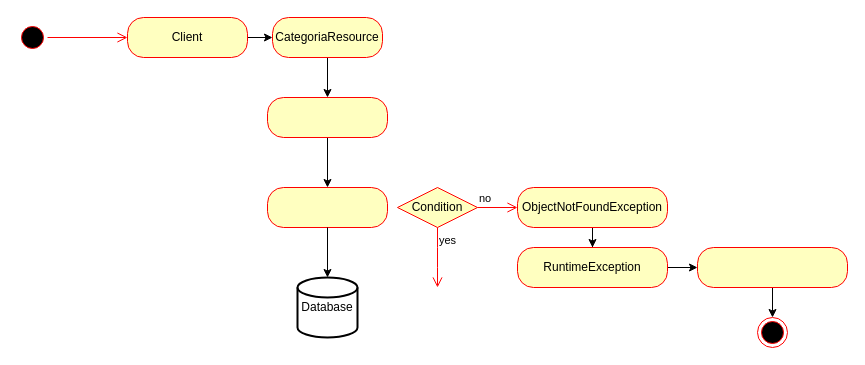
This 865x365 diagram has some shape labels left out. Each missing label, with the box of its shape:
CategoriaRepository: (266, 186, 388, 228)
CategoriaService: (266, 96, 388, 138)
ResourceExceptionHandle: (696, 246, 848, 288)
